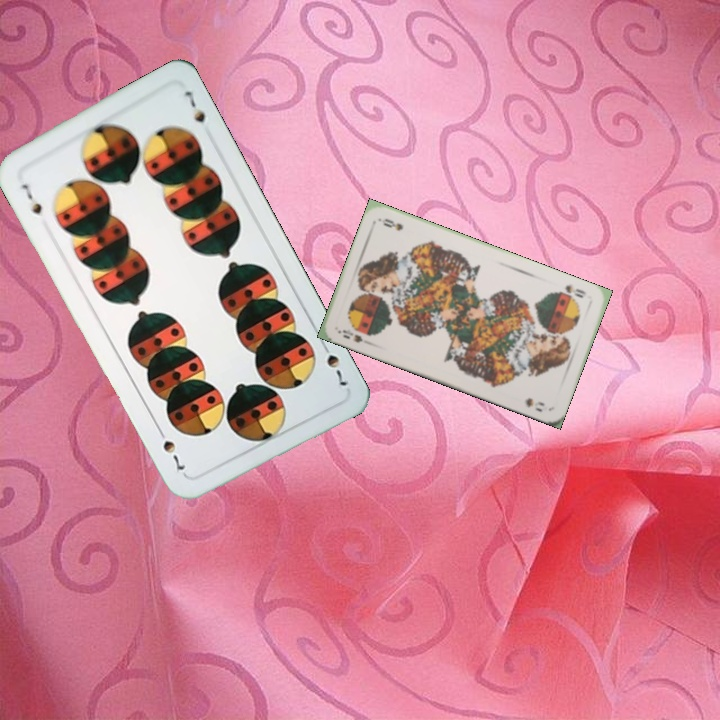S7: (317, 337, 352, 389), (18, 180, 45, 217)
SO: (561, 280, 589, 301), (338, 325, 365, 345)
